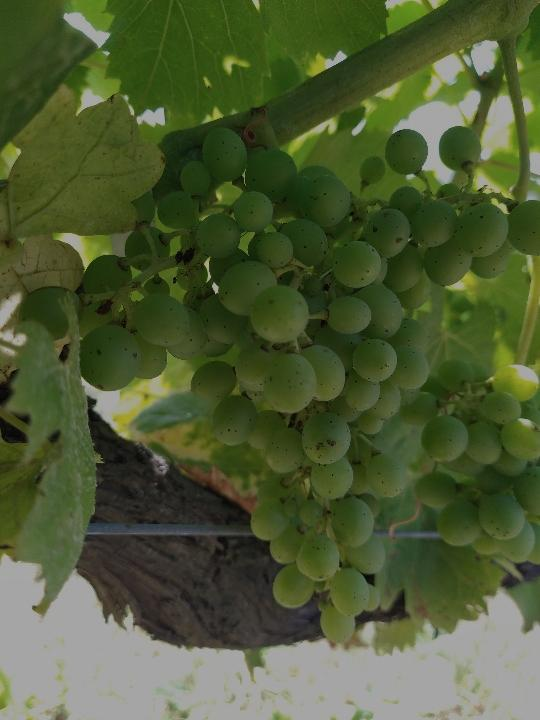grape: (16, 123, 538, 648)
